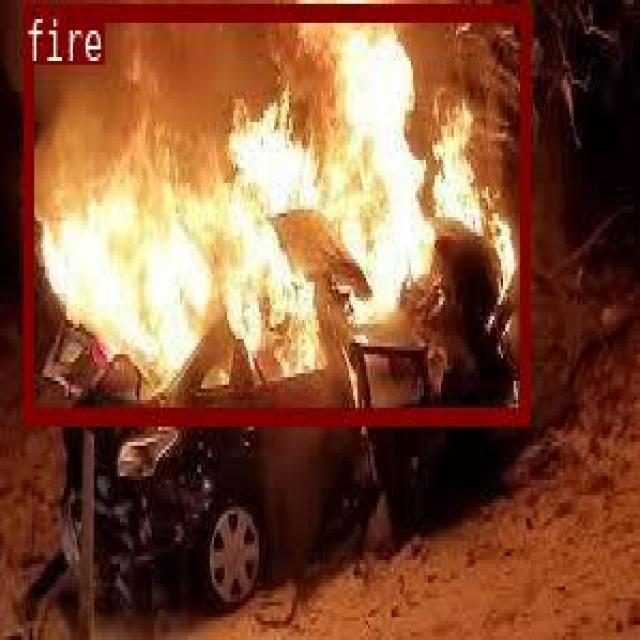fire: (22, 3, 527, 420)
